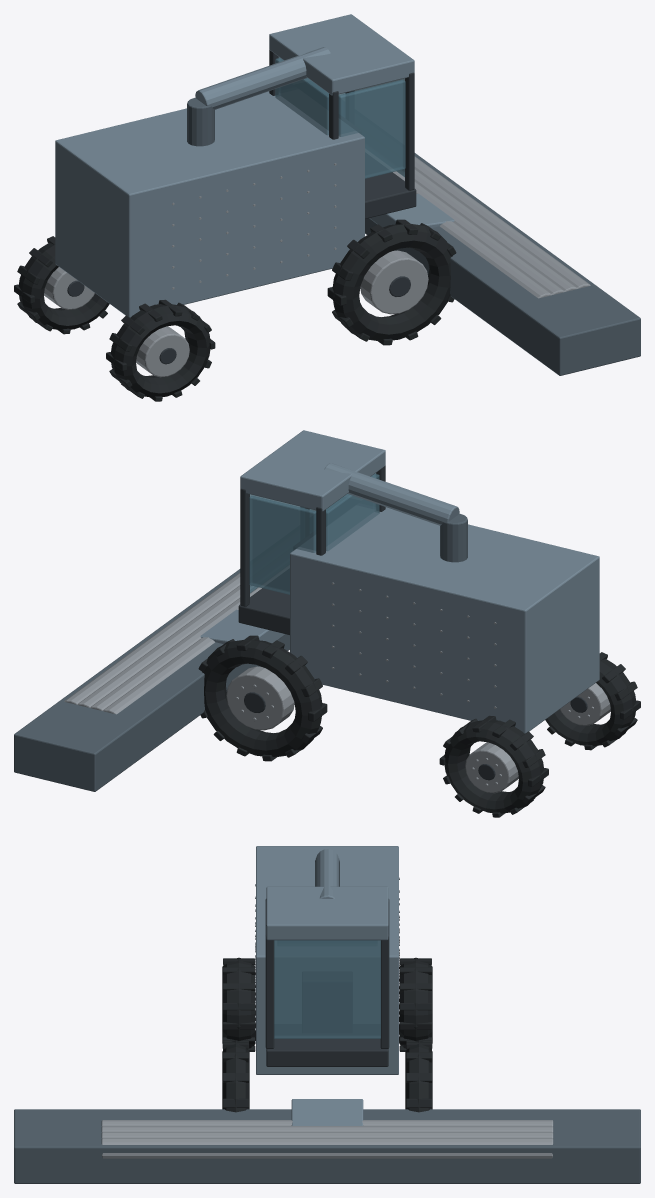
The model's file is claas-jaguar-990-structural-study.glb.
The picture shows the model from 3 angles, top to bottom: view 1: azimuth 30°, elevation 25°; view 2: azimuth 150°, elevation 25°; view 3: azimuth 270°, elevation 25°; orthographic projection. The views are drawn at different scales.
Parts seen in each view (by area): view 1: Processor_House, Crop_Header, Cab_Roof, Front_R_Tire, Cab_R_Glass, Rear_R_Tire, Front_R_Rim, Spout_Tip, Rear_L_Tire, Feedroll_4, Cab_Floor, Feedroll_3 (+8 smaller); view 2: Processor_House, Crop_Header, Cab_Roof, Front_L_Tire, Cab_L_Glass, Rear_L_Tire, Spout_Tip, Front_L_Rim, Rear_R_Tire, Feedroll_4, Cab_Floor, Feedroll_3 (+8 smaller); view 3: Crop_Header, Processor_House, Cab_Front_Glass, Cab_Roof, Feedroll_4, Cab_Floor, Feedroll_3, Operator_Seat, Feedroll_2, Feedroll_1, Header_Feeder_Bridge, Rear_L_Tire (+6 smaller).
Boxes of the visible parts, x1,y1,x2,y2 form: Processor_House: (55, 90, 364, 317); Crop_Header: (365, 153, 640, 375); Cab_Roof: (269, 14, 414, 95); Front_R_Tire: (332, 223, 452, 340); Cab_R_Glass: (338, 79, 405, 178); Rear_R_Tire: (110, 304, 210, 397); Front_R_Rim: (360, 250, 428, 314); Spout_Tip: (195, 47, 330, 109); Rear_L_Tire: (18, 242, 109, 330); Feedroll_4: (414, 156, 590, 288); Cab_Floor: (365, 153, 416, 218); Feedroll_3: (401, 169, 577, 291); Processor_House: (290, 506, 599, 733); Crop_Header: (14, 569, 289, 791); Cab_Roof: (240, 430, 385, 511); Front_L_Tire: (202, 639, 322, 756); Cab_L_Glass: (249, 495, 316, 594); Rear_L_Tire: (444, 720, 544, 813); Spout_Tip: (324, 463, 459, 525); Front_L_Rim: (226, 666, 294, 730); Rear_R_Tire: (545, 658, 636, 746); Feedroll_4: (64, 572, 240, 704); Cab_Floor: (238, 569, 289, 634); Feedroll_3: (77, 585, 253, 707); Crop_Header: (14, 1109, 640, 1183); Processor_House: (256, 846, 398, 1074); Cab_Front_Glass: (274, 940, 380, 1038); Cab_Roof: (266, 886, 388, 940); Feedroll_4: (101, 1137, 553, 1158); Cab_Floor: (266, 1024, 388, 1066); Feedroll_3: (101, 1131, 553, 1137); Operator_Seat: (302, 972, 352, 1032); Feedroll_2: (101, 1125, 553, 1131); Feedroll_1: (101, 1120, 553, 1125); Header_Feeder_Bridge: (291, 1099, 363, 1125); Rear_L_Tire: (399, 957, 432, 1048).
Size of the model in its own units: 6.49 by 3.94 by 8.93.
